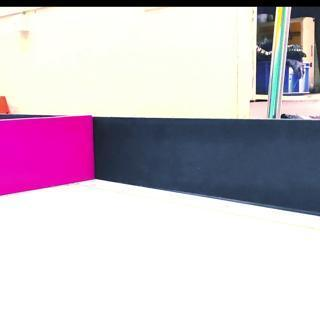xparking: (2, 121, 92, 179)
